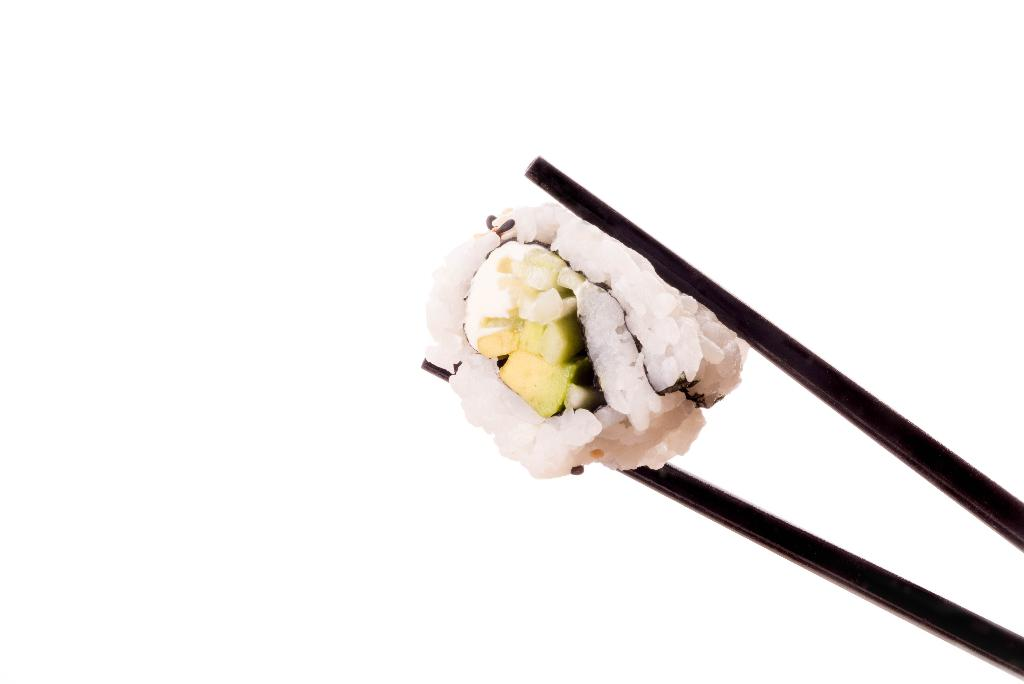sushi: (421, 210, 758, 484)
